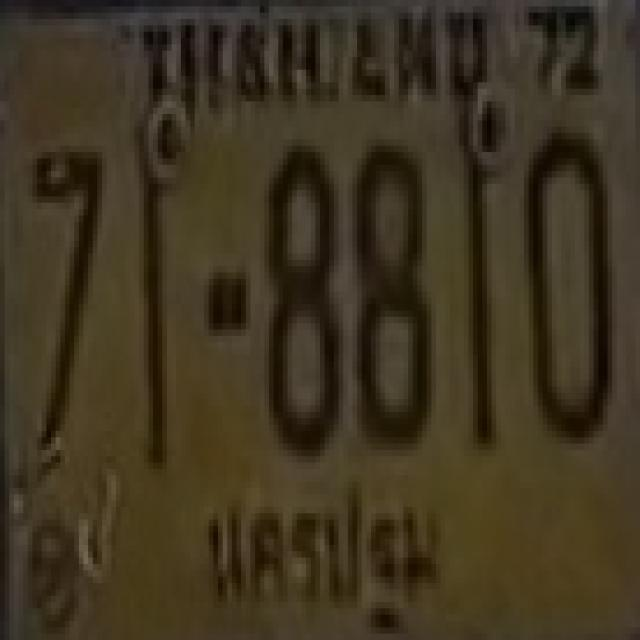0: (529, 127, 617, 437)
7: (28, 146, 102, 431)
8: (262, 139, 341, 450), (352, 140, 432, 443)
NPT: (190, 472, 450, 630)
